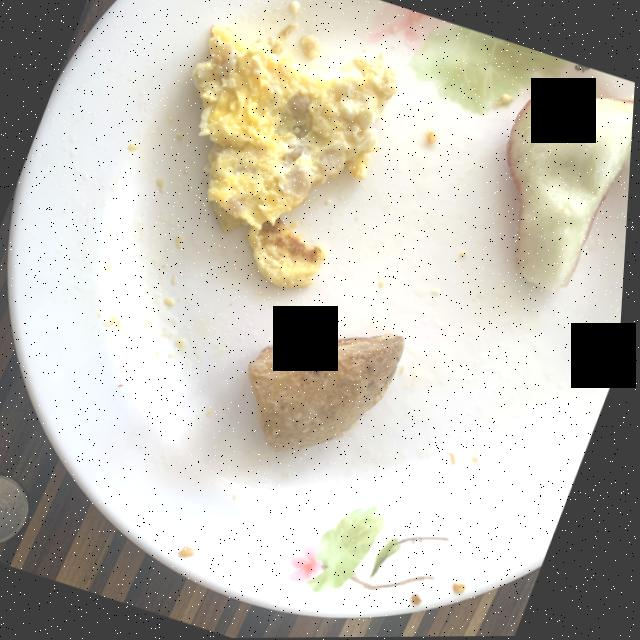coin: (0, 475, 35, 544)
fried potato: (253, 334, 408, 452)
